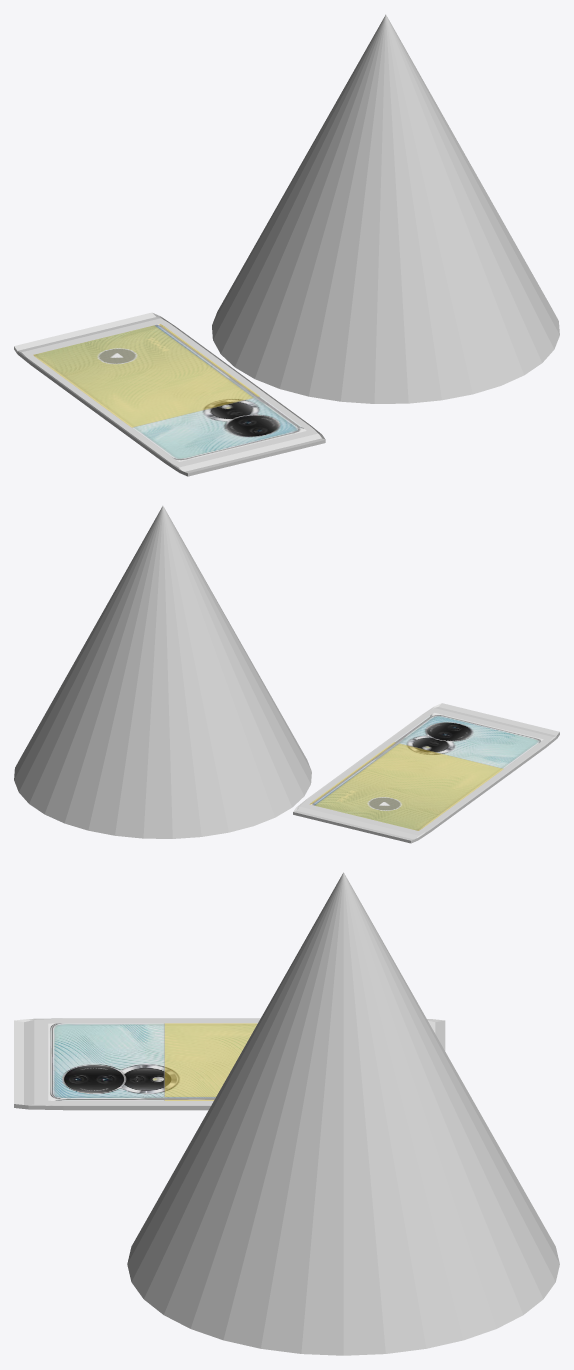
Rendered from green.glb.
3 renders of one model, top to bottom at view 1: azimuth 30°, elevation 25°; view 2: azimuth 150°, elevation 25°; view 3: azimuth 270°, elevation 25°, orthographic. The views are drawn at different scales.
Visible parts, largest first — view 1: 锥体, Cube; view 2: 锥体, Cube; view 3: 锥体, Cube.
Boxes of the visible parts, x1,y1,x2,y2 form: 锥体: [212, 14, 559, 403]; Cube: [14, 312, 325, 476]; 锥体: [14, 506, 311, 838]; Cube: [293, 703, 559, 843]; 锥体: [127, 872, 559, 1355]; Cube: [14, 1018, 445, 1110].
Bounding box in the file's own units: 3.21 × 2 × 2.52.
Materials: 3 (1 with a texture image).
